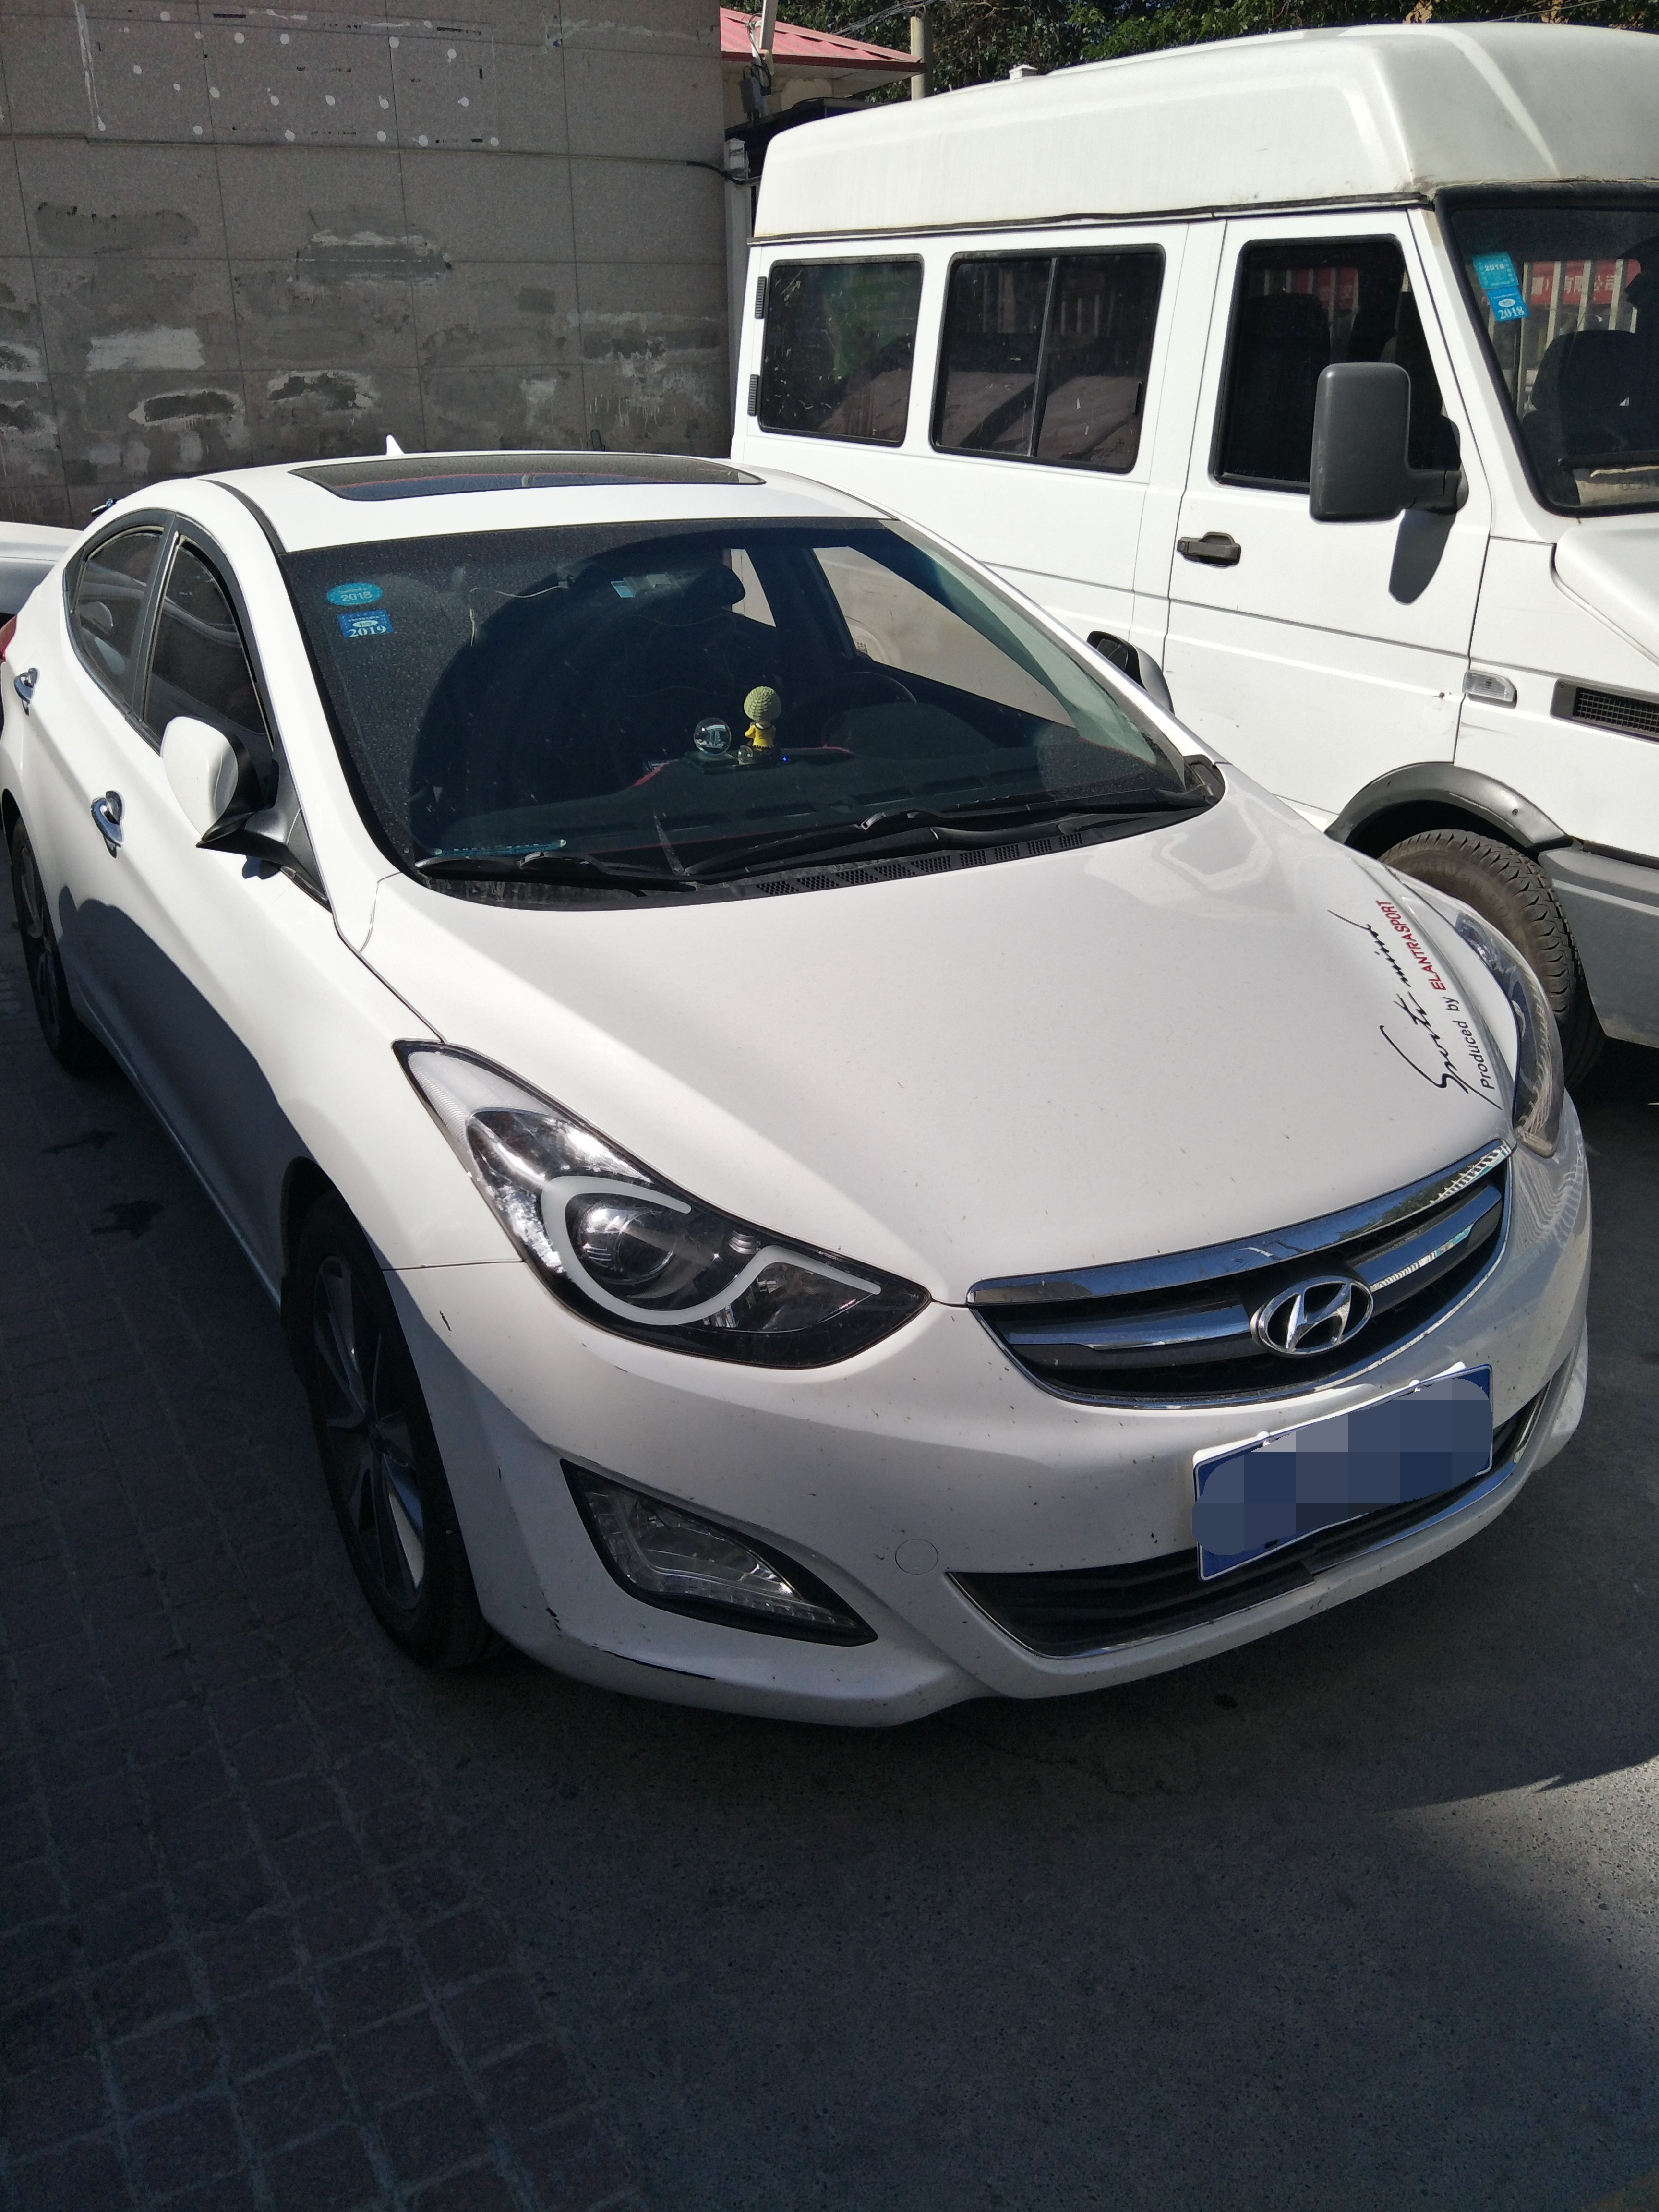family sedan: (51, 374, 1577, 1710)
